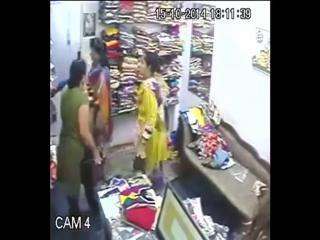Normal: (52, 59, 111, 238), (132, 53, 170, 190), (86, 38, 113, 153)
